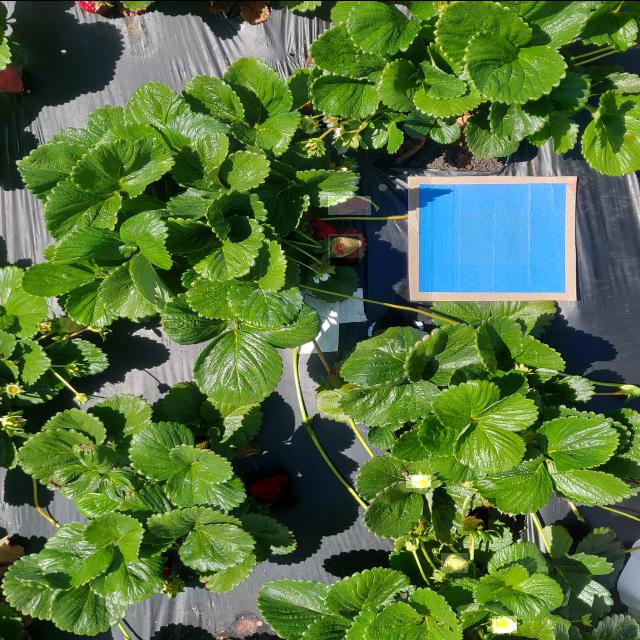Flower: (492, 614, 518, 632), (407, 473, 432, 487), (319, 113, 342, 127), (4, 382, 23, 393)
Green Strawberry: (463, 507, 489, 530), (441, 551, 469, 572), (60, 315, 84, 331), (194, 434, 211, 448), (482, 496, 497, 506)
Red Strawberry: (245, 468, 292, 504), (328, 194, 372, 214), (330, 235, 359, 265), (309, 218, 342, 242), (0, 64, 23, 91), (73, 1, 115, 14), (159, 556, 173, 580), (411, 520, 429, 536)
White Strawberry: (328, 232, 364, 257)
